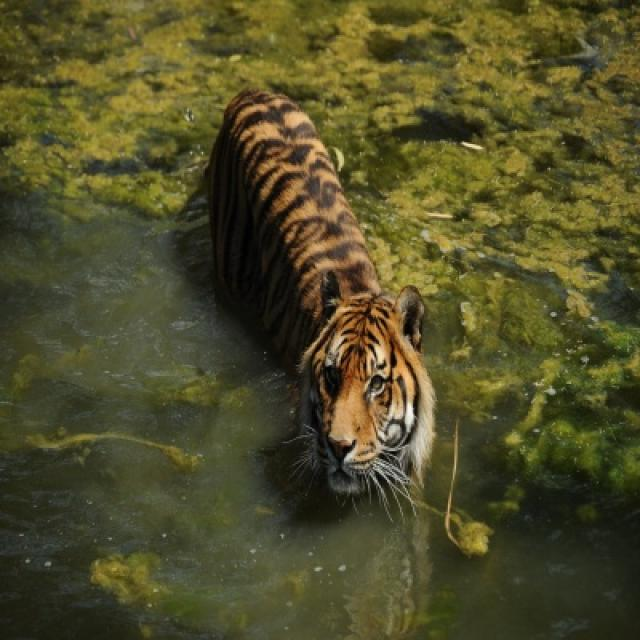Tiger: (214, 87, 439, 495)
